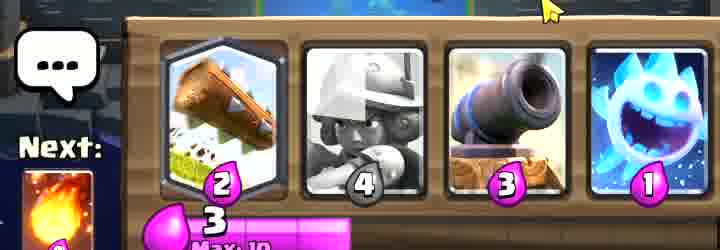cannon: (448, 53, 557, 200)
fireball: (25, 172, 93, 250)
ice-spirit: (588, 49, 705, 201)
log: (169, 43, 280, 183)
